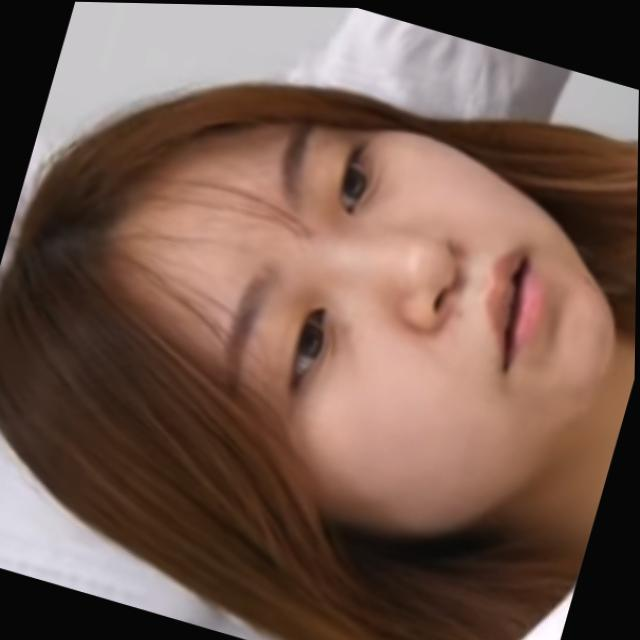face: (60, 54, 639, 593)
